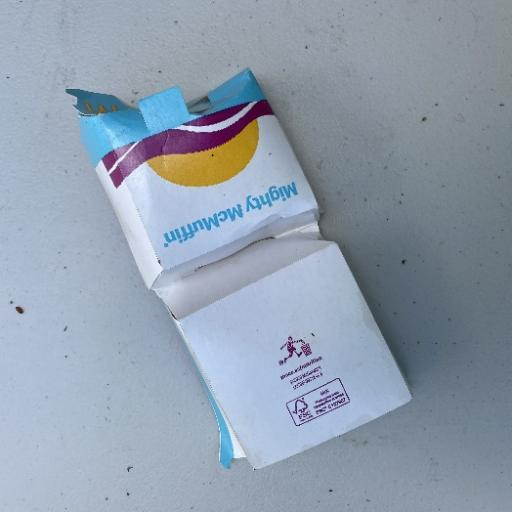Cardboard: (64, 66, 414, 471), (66, 67, 322, 291)
